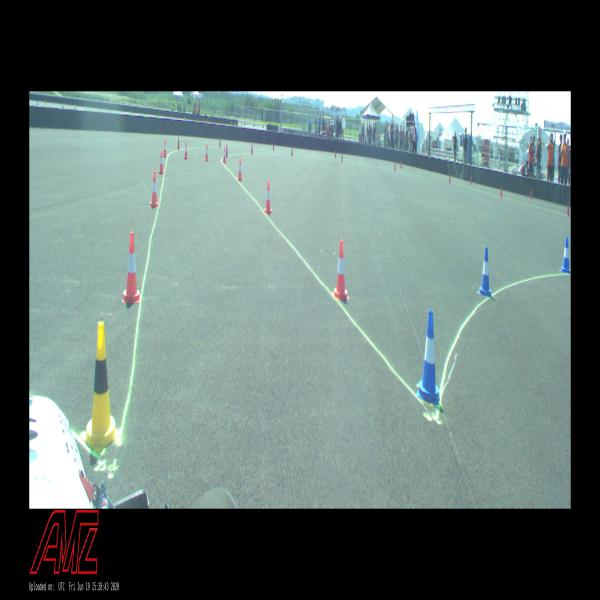blue_cone: (417, 310, 440, 404), (478, 246, 492, 298), (560, 237, 570, 273)
orange_cone: (122, 232, 141, 303), (332, 239, 350, 300), (150, 172, 158, 208), (265, 181, 272, 214), (159, 150, 164, 174), (238, 158, 242, 180), (184, 141, 188, 160), (163, 140, 167, 157), (222, 146, 226, 163), (205, 144, 209, 161)
yellow_cone: (82, 321, 120, 452)
